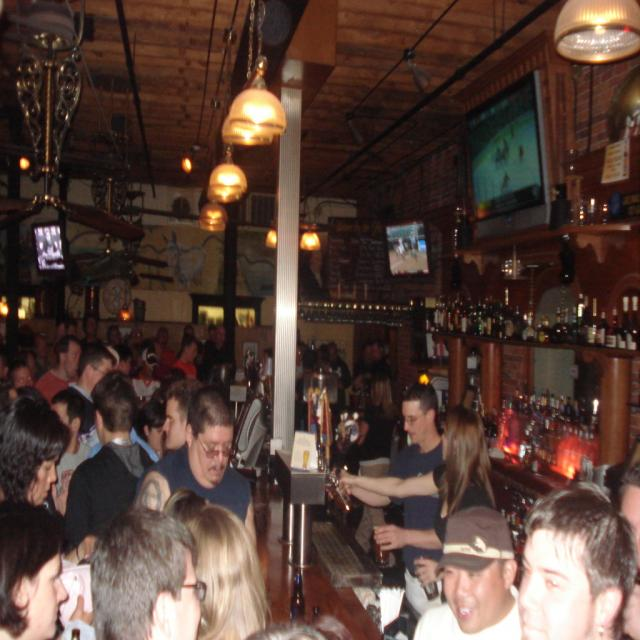Glasses: (193, 430, 238, 460), (179, 578, 209, 602), (402, 410, 428, 427)
